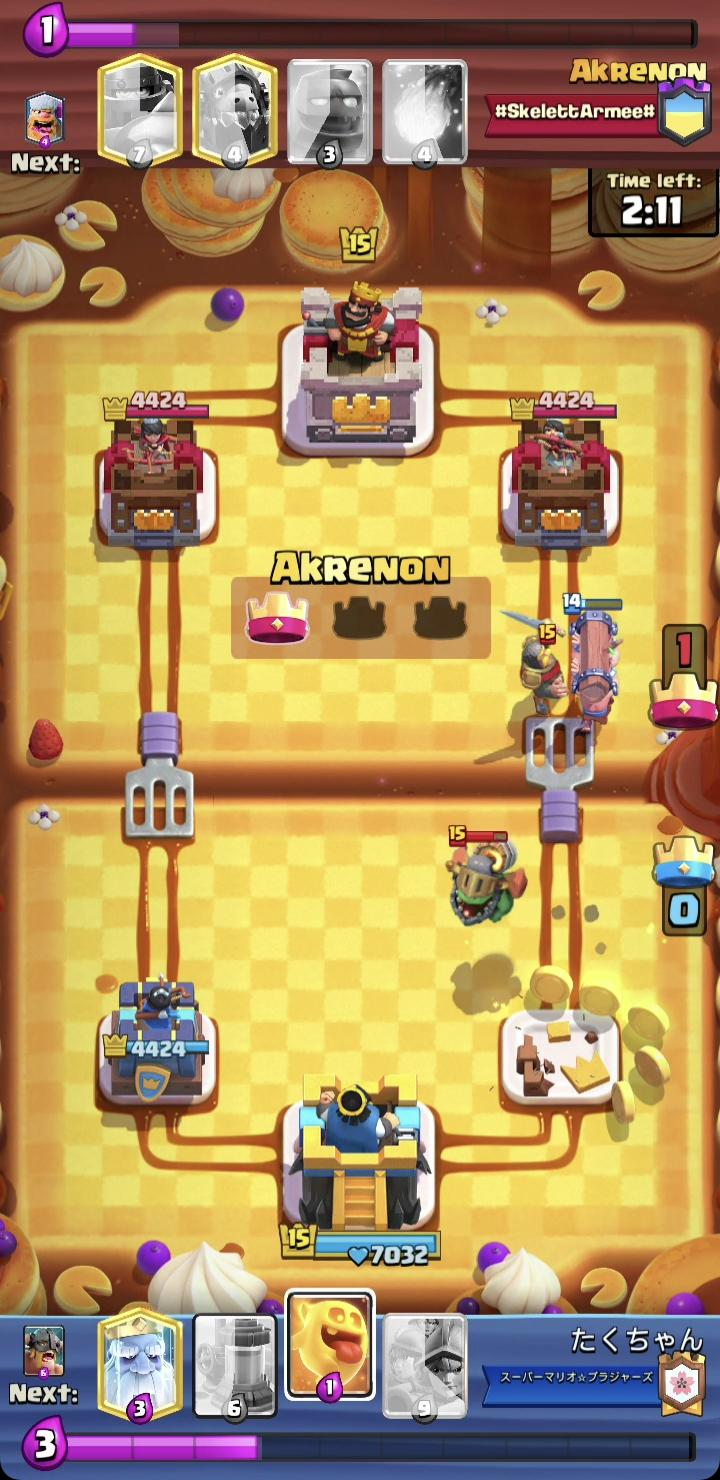ally_battleram: (561, 590, 625, 730)
enemy_infernodragon: (442, 824, 530, 926)
enemy_knight: (500, 607, 573, 720)
